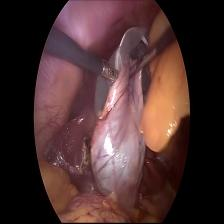Grasper: (129, 49, 156, 78), (100, 65, 120, 86)
Specimen Bag: (107, 25, 146, 70)
